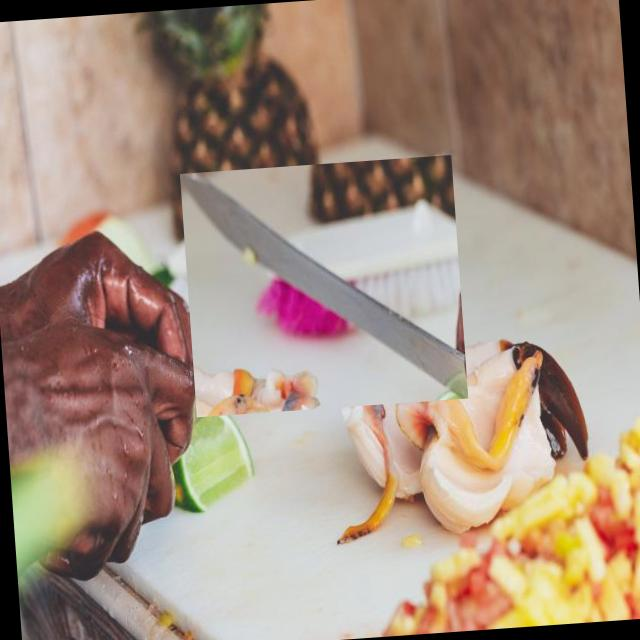Gun: (180, 173, 468, 398)
